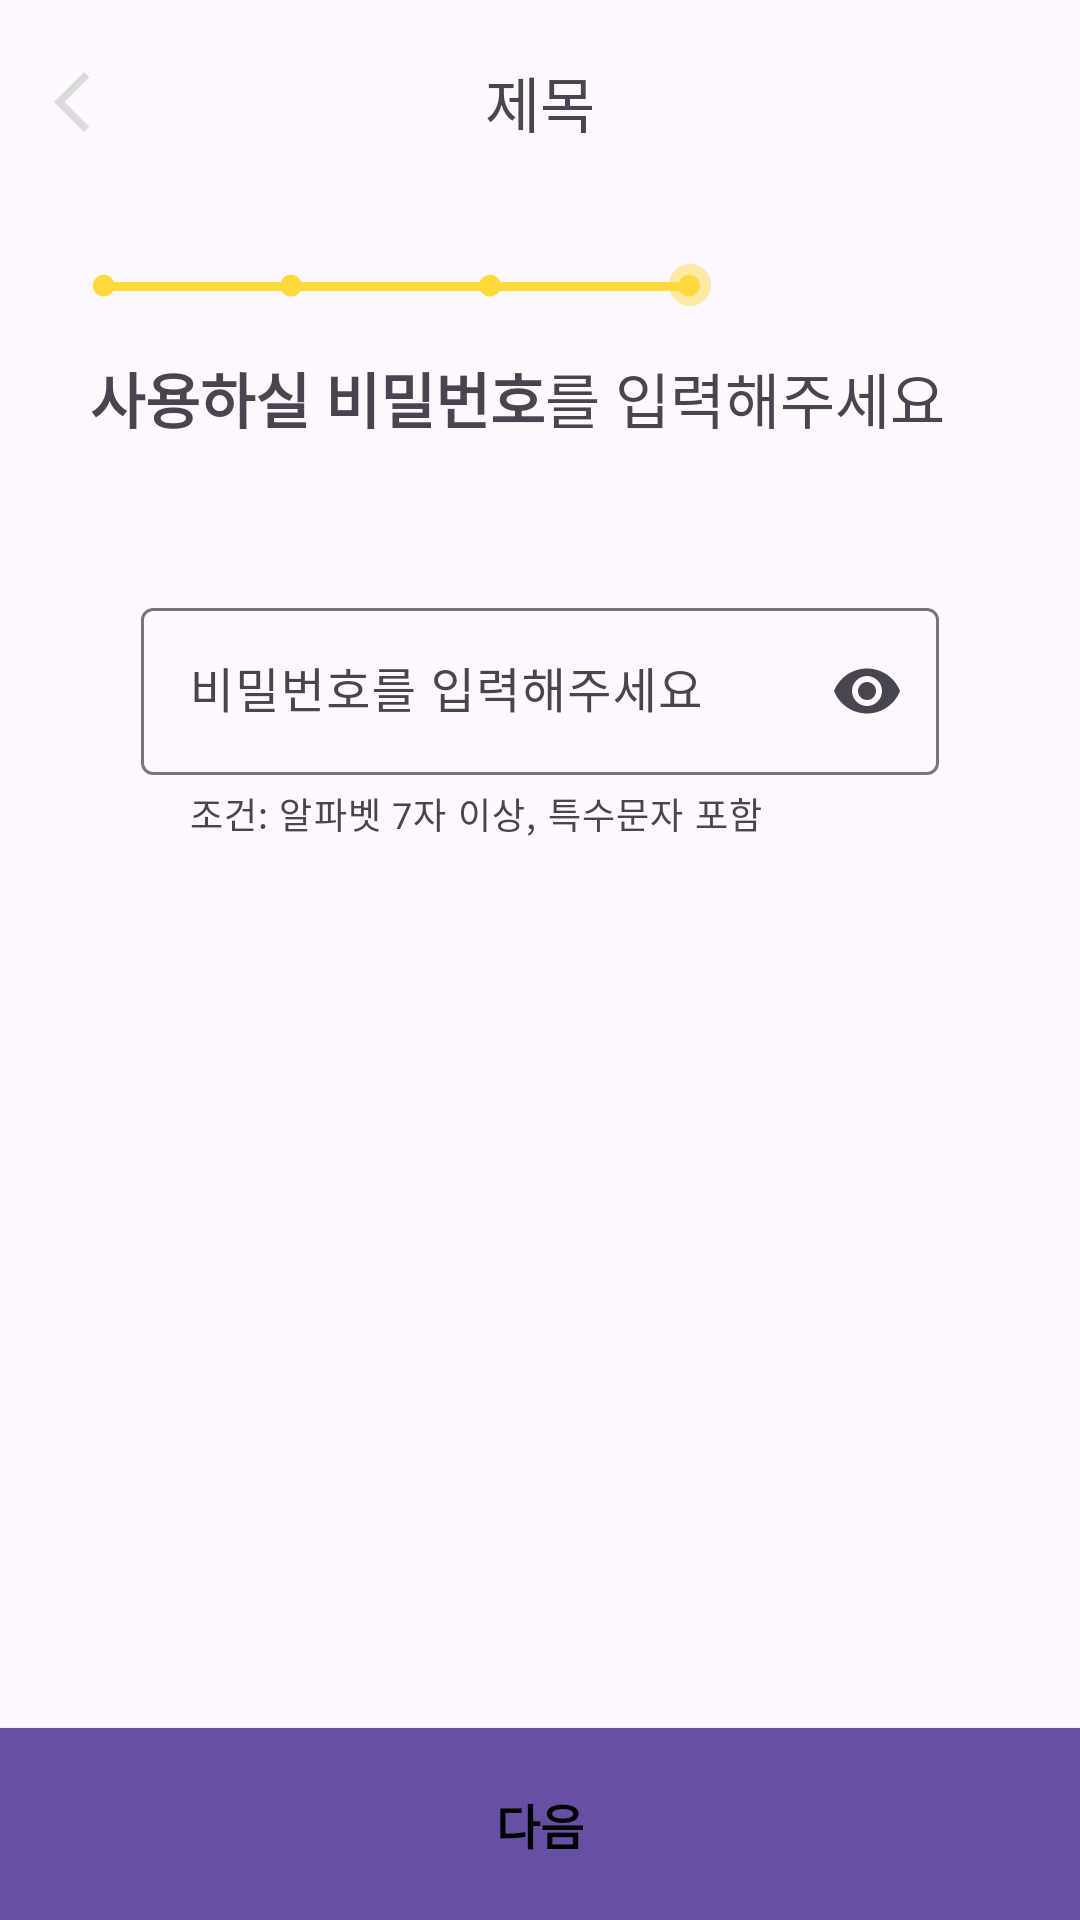

Icons on this 1080 × 1920 Android screen, each with the point to tap as (x,y):
arrow back: (72,102)
